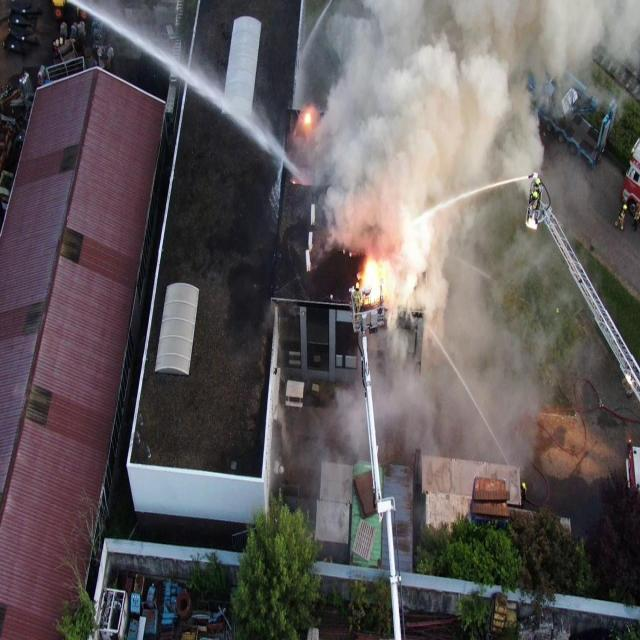Fire: (360, 256, 390, 304), (304, 114, 310, 124)
Smoke: (277, 0, 640, 487)
